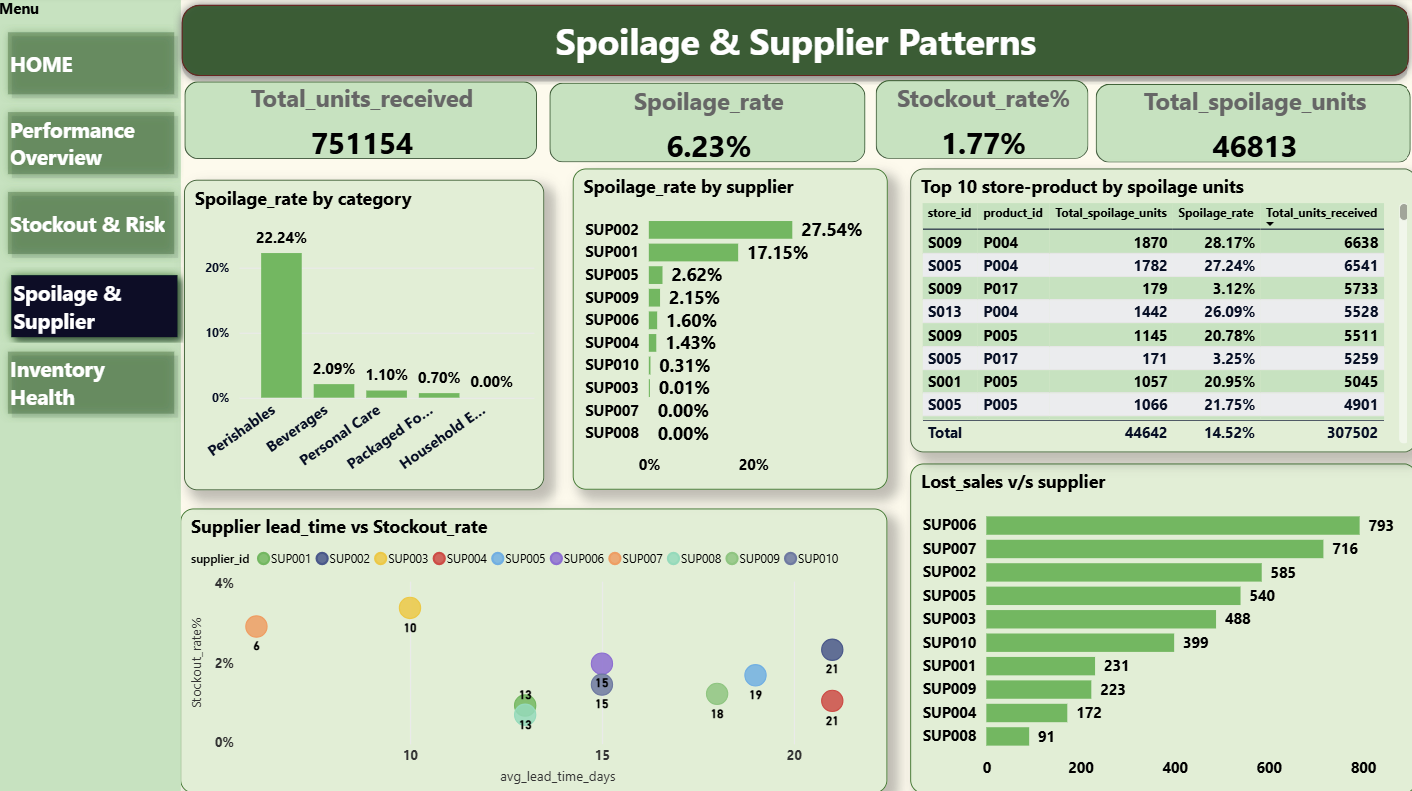

The dashboard page shown, as its layout file describes it:
{"tool":"powerbi","page":{"name":"Spoilage & Supplier","canvas":[1280,720],"ordinal":3},"visuals":[{"type":"clusteredBarChart","title":"Spoilage_rate by supplier","fields":{"Category":["inventory_ledger_cleaned.supplier_id"],"Y":["inventory_ledger_cleaned.Spoilage_rate"]},"box":[517.9,155.2,276.1,293.9],"z":0},{"type":"barChart","title":"Lost_sales v/s supplier","fields":{"Y":["inventory_ledger_cleaned.Total_lost_sales_unit"],"Category":["inventory_ledger_cleaned.supplier_id"]},"box":[821.7,420.7,414.5,299.6],"z":1000},{"type":"scatterChart","title":"Supplier lead_time vs Stockout_rate","fields":{"Y":["inventory_ledger_cleaned.Stockout_rate%"],"Series":["inventory_ledger_cleaned.supplier_id"],"X":["Suppliers_table3.avg_lead_time_days"]},"box":[163.9,462.1,629.7,257.5],"z":2000},{"type":"group","id":"g1","title":"Group 3","box":[0,2,166.3,719.1],"z":3000},{"type":"shape","box":[156.5,0,1123.5,80.2],"z":4000},{"type":"cardVisual","fields":{"Data":["inventory_ledger_cleaned.Total_units_received"]},"box":[162.9,72.5,328.3,80.2],"z":5000},{"type":"cardVisual","fields":{"Data":["inventory_ledger_cleaned.Spoilage_rate"]},"box":[491.6,72.7,295.7,82.6],"z":6000},{"type":"cardVisual","fields":{"Data":["inventory_ledger_cleaned.Total_spoilage_units"]},"box":[984.5,73.9,295.7,81.3],"z":7000},{"type":"columnChart","title":"Spoilage_rate by category","fields":{"Category":["inventory_ledger_cleaned.category"],"Y":["inventory_ledger_cleaned.Spoilage_rate"]},"box":[166.7,165.4,324.5,279.9],"z":8000},{"type":"shape","box":[0,2.2,164.1,718.9],"z":9000,"group":"g2"},{"type":"cardVisual","fields":{"Data":["inventory_ledger_cleaned.Stockout_rate"]},"box":[786.1,71.5,202.1,81.3],"z":9000},{"type":"group","id":"g2","title":"Group 1","box":[0,2,166.3,719.1],"z":9501,"group":"g3"},{"type":"pageNavigator","title":"Menu","box":[0,2,166.3,384.4],"z":10000,"group":"g2"},{"type":"tableEx","title":"Top 10 store-product by spoilage units","fields":{"Values":["inventory_ledger_cleaned.store_id","inventory_ledger_cleaned.product_id","inventory_ledger_cleaned.Total_spoilage_units","inventory_ledger_cleaned.Spoilage_rate","inventory_ledger_cleaned.Total_units_received"]},"box":[821.7,155.3,443.9,255.6],"z":10000},{"type":"group","id":"g3","title":"Group 2","box":[0,2,166.3,719.1],"z":13002,"group":"g1"}]}

Visuals, with their boxes in screenshot pixels (x1, y1, x2, y2), scaled from the page's 1280x720 canvas onto the 1412x791 screenshot:
"Spoilage_rate by supplier" clusteredBarChart: box=[571, 171, 876, 493]
"Lost_sales v/s supplier" barChart: box=[906, 462, 1364, 790]
"Supplier lead_time vs Stockout_rate" scatterChart: box=[181, 508, 875, 790]
"Group 3" group: box=[0, 2, 183, 790]
shape: box=[173, 0, 1411, 88]
cardVisual - inventory_ledger_cleaned.Total_units_received: box=[180, 80, 542, 168]
cardVisual - inventory_ledger_cleaned.Spoilage_rate: box=[542, 80, 868, 171]
cardVisual - inventory_ledger_cleaned.Total_spoilage_units: box=[1086, 81, 1411, 171]
"Spoilage_rate by category" columnChart: box=[184, 182, 542, 489]
shape: box=[0, 2, 181, 790]
cardVisual - inventory_ledger_cleaned.Stockout_rate: box=[867, 79, 1090, 168]
"Group 1" group: box=[0, 2, 183, 790]
"Menu" pageNavigator: box=[0, 2, 183, 425]
"Top 10 store-product by spoilage units" tableEx: box=[906, 171, 1396, 451]
"Group 2" group: box=[0, 2, 183, 790]
